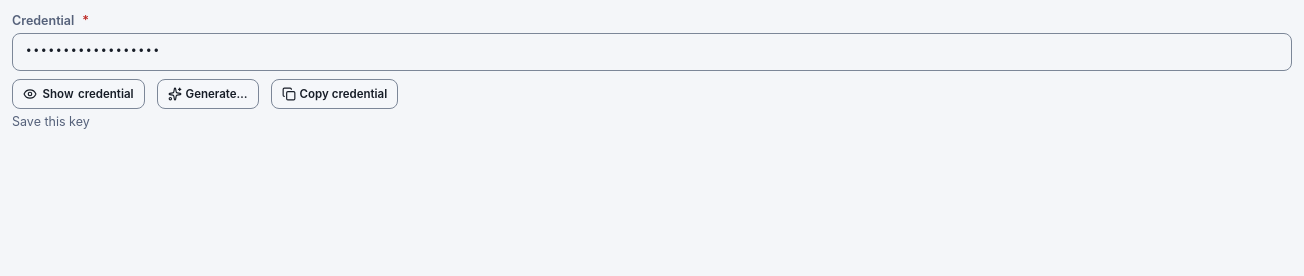
Test: SensitiveValueField › generates and reveals 32 bytes as base64url using Web Crypto
Click the button named "Generate credential": x=208, y=94 [156,79,259,109]
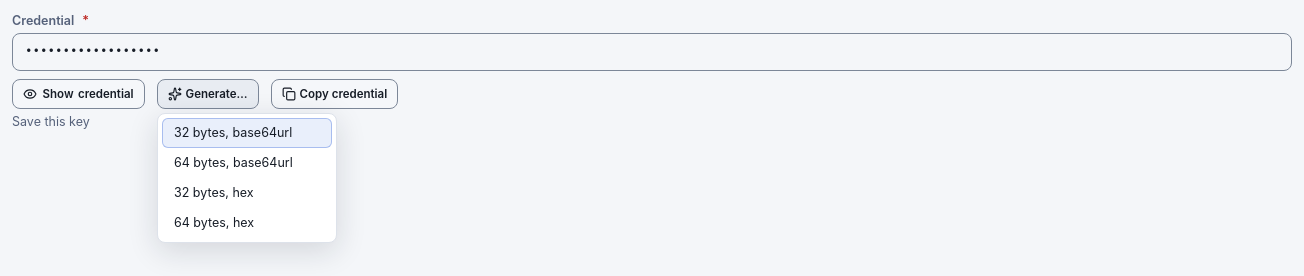
Click the menu item "32 bytes, base64url": x=247, y=133 [162,118,332,148]
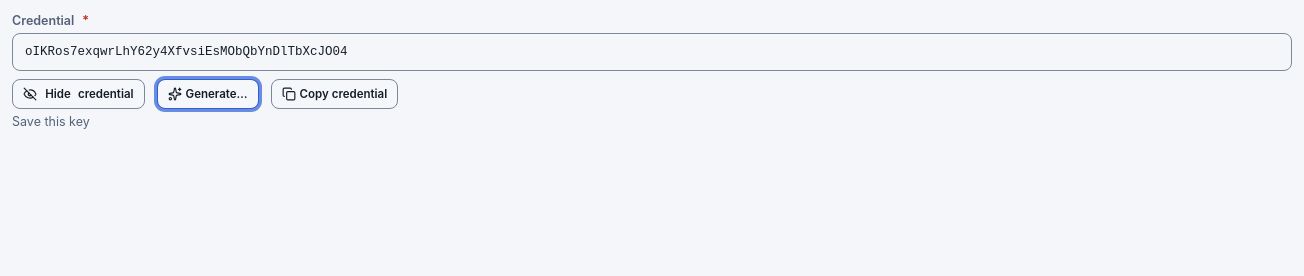
expect the field labelled "Credential *" shows its text: met, box [12,33,1292,71]
